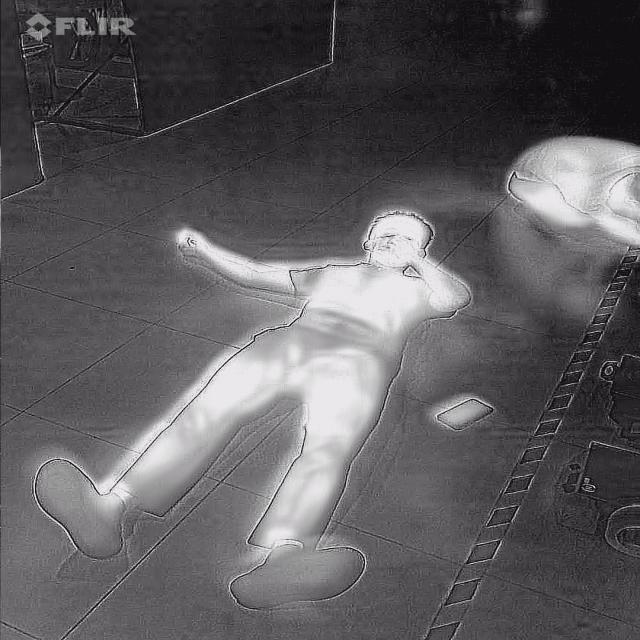Victim: (24, 204, 477, 609), (506, 124, 640, 251)
